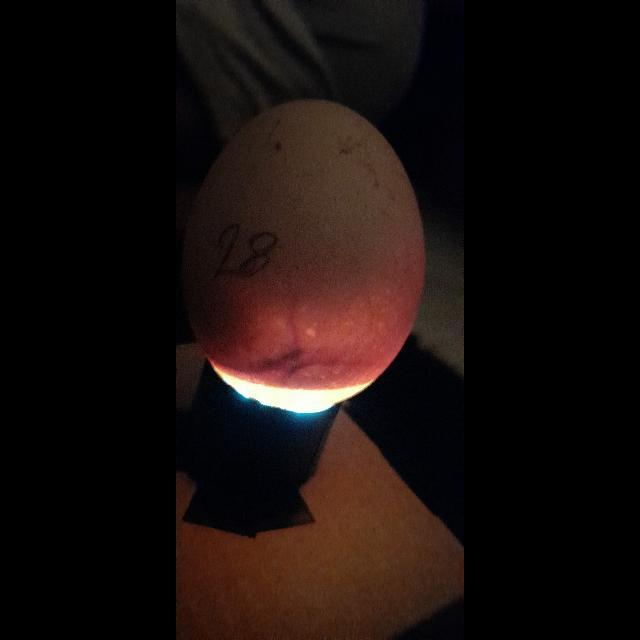Fertile: (200, 100, 422, 416)
